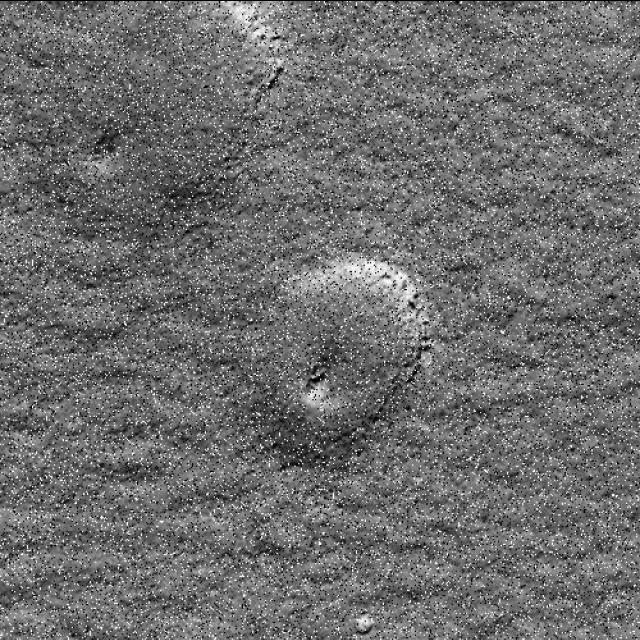crater: (20, 0, 313, 258), (238, 251, 438, 503), (372, 486, 640, 640), (46, 498, 283, 640)
